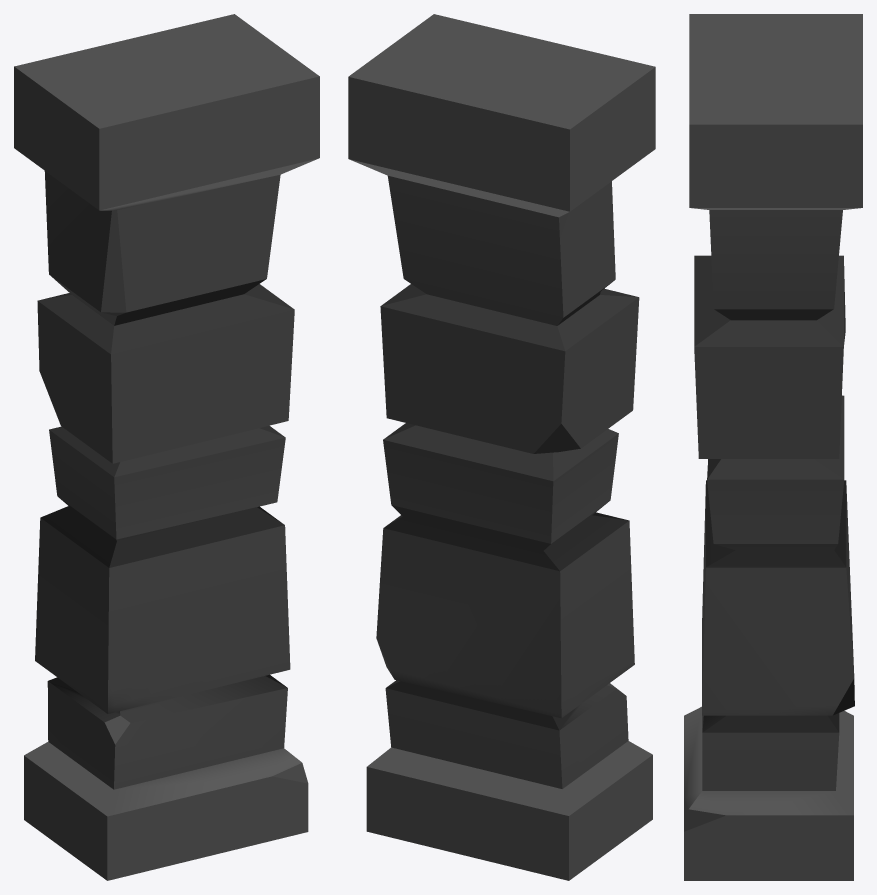
File: WallEndStonePillar.obj
The picture shows the model from 3 angles, left to right: view 1: azimuth 30°, elevation 25°; view 2: azimuth 150°, elevation 25°; view 3: azimuth 270°, elevation 25°; orthographic projection.
Parts seen in each view (by area): view 1: WallEndStonePillar1; view 2: WallEndStonePillar1; view 3: WallEndStonePillar1.
Boxes of the visible parts, x1,y1,x2,y2 form: WallEndStonePillar1: (14,14,319,880); WallEndStonePillar1: (348,14,655,880); WallEndStonePillar1: (684,14,862,880).
Bounding box in the file's own units: 8.04 × 26.17 × 5.55.
